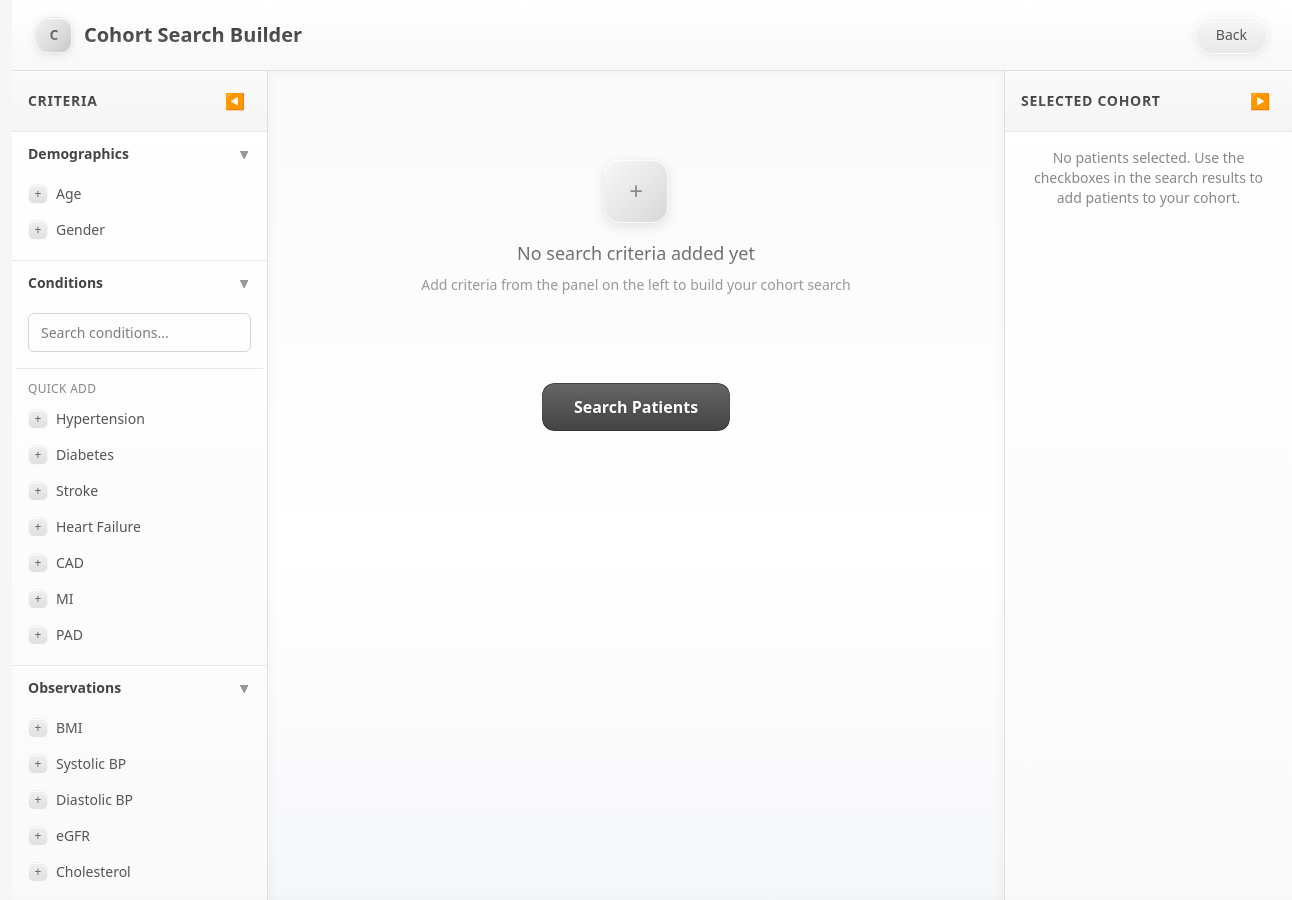
CohortBuilderPage › Adding criteria › should add gender criterion when Gender button clicked
What coordinates should you click on to do the following:
click the button with aria-label "Add Gender"
I would click on:
 (140, 230)
Its box is [16,212,263,248].
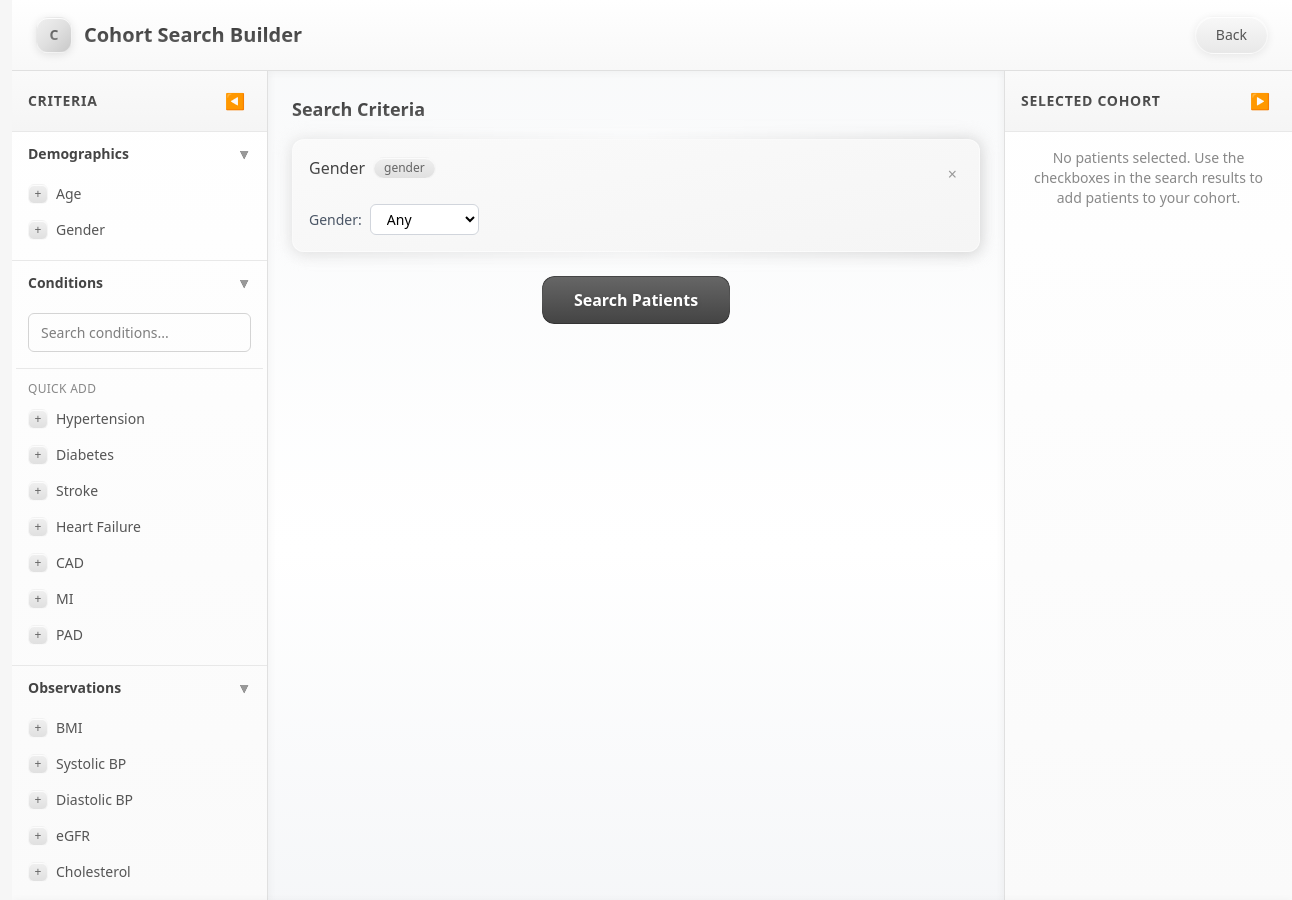
Expected: the dropdown named "Select gender" is shown, [370,204,479,235]
Expected: the text "gender" is shown, [373,157,436,179]
